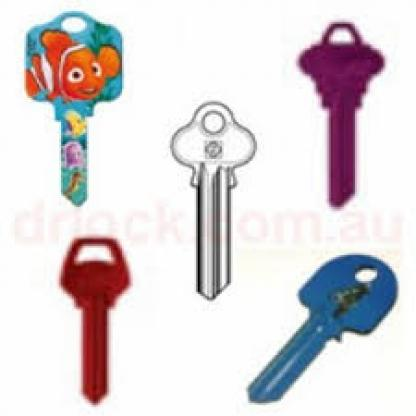key: (247, 240, 392, 400), (28, 11, 128, 205), (175, 100, 260, 298), (300, 17, 386, 211), (65, 230, 146, 406)
